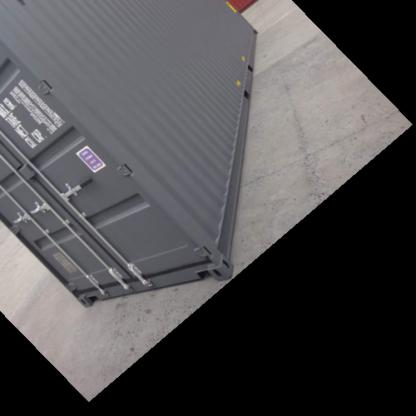Damage: (75, 177, 100, 196)
